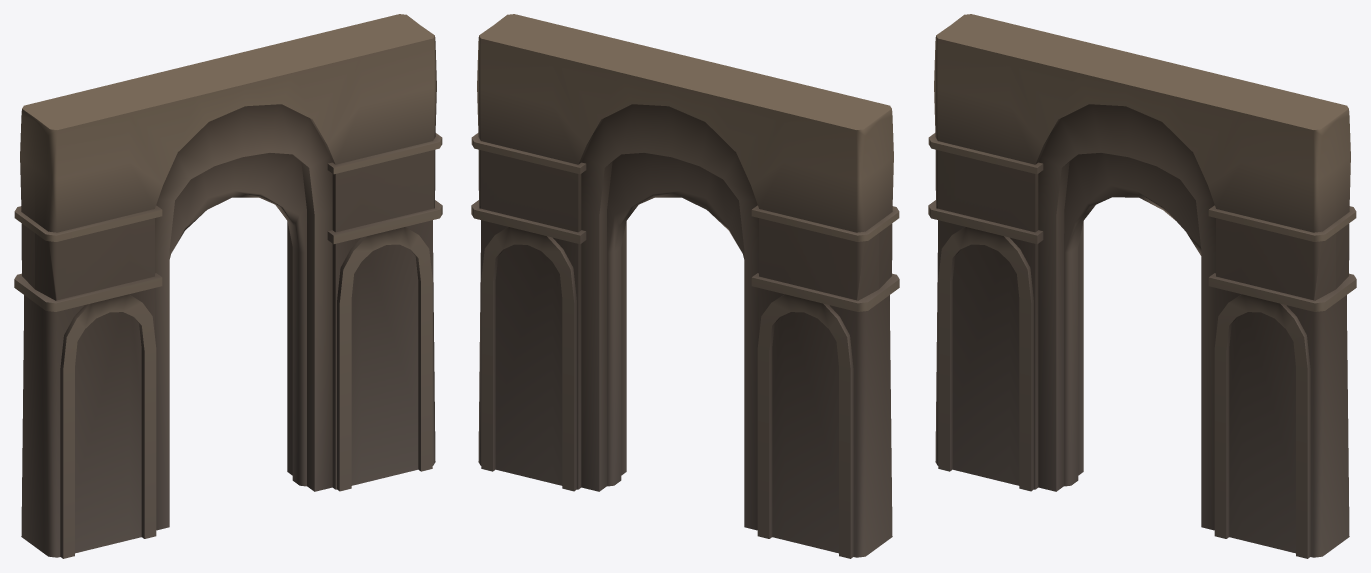
Rendered from Ruins_CathedralRuins_alt20.glb.
The picture shows the model from 3 angles, left to right: view 1: azimuth 30°, elevation 25°; view 2: azimuth 150°, elevation 25°; view 3: azimuth 330°, elevation 25°; orthographic projection.
Visible parts, largest first — view 1: base99; view 2: base99; view 3: base99.
Part boxes in pixels (x1=…): base99: x1=14, y1=14, x2=442, y2=558; base99: x1=471, y1=14, x2=899, y2=558; base99: x1=928, y1=14, x2=1356, y2=558.
Bounding box in the file's own units: 11.13 × 11.46 × 1.9.
